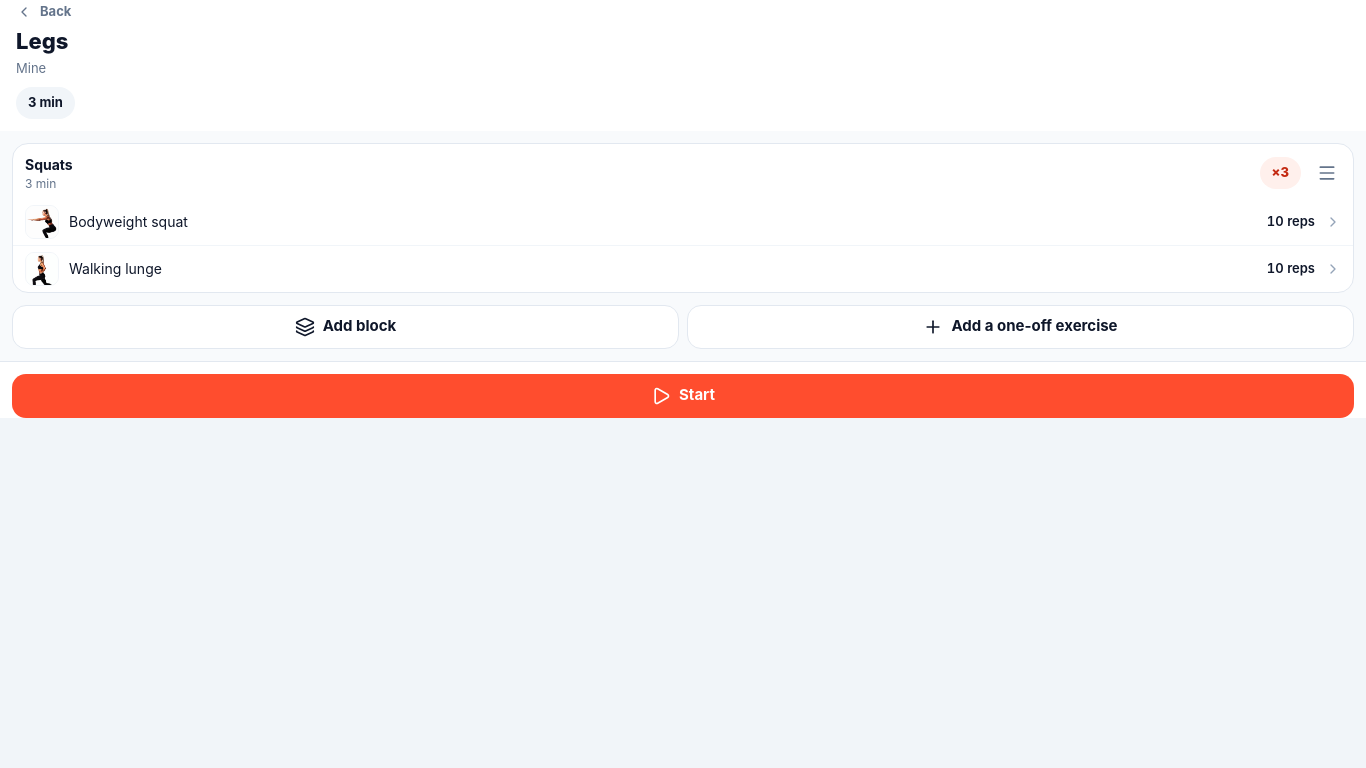
Test: the workout page reads plain; a tap on a block opens it for editing (Nick, 1 Nov 2026) › the reorder grip shows while reading and opens the reorder view
Click the button with test id "block-grip" at point(1327, 173), box [1309,155,1345,191]
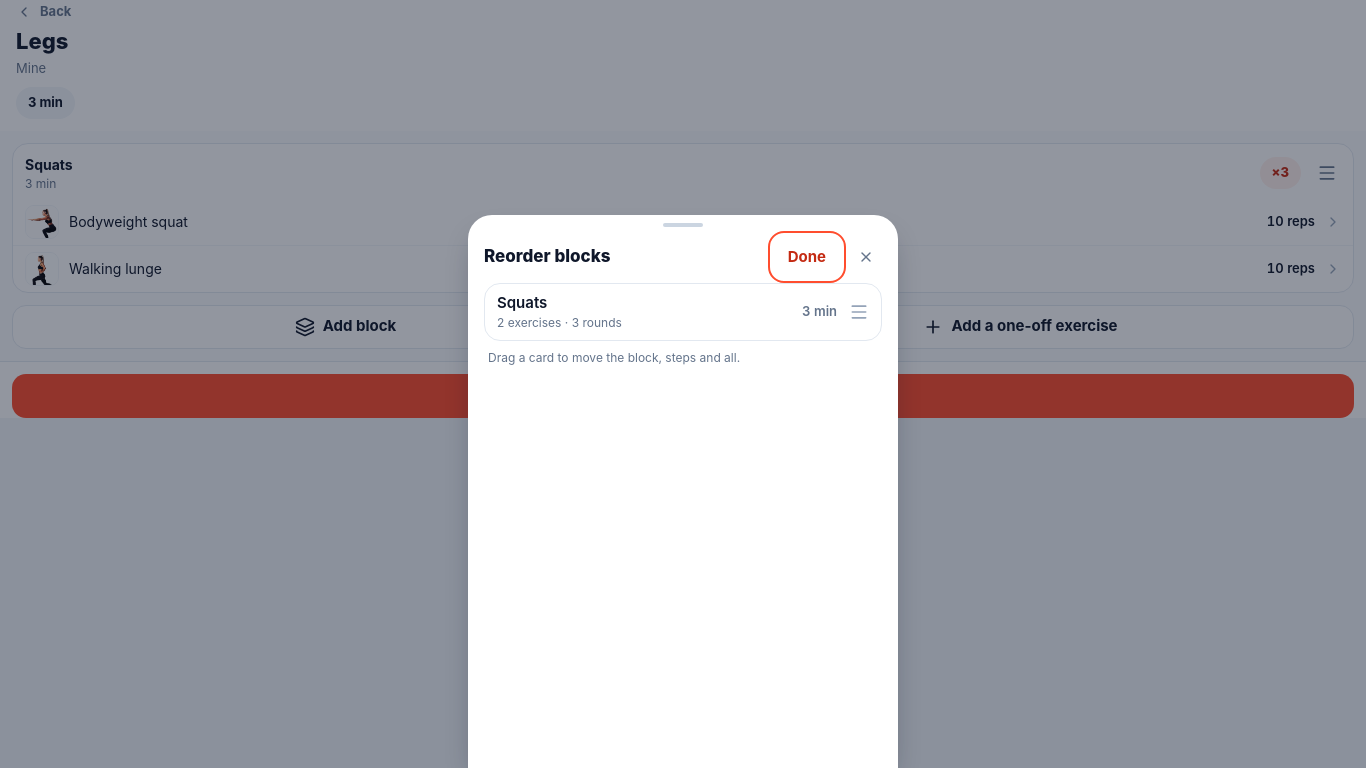
Expected: the dialog "Reorder blocks" is shown, [468,215,898,767]
